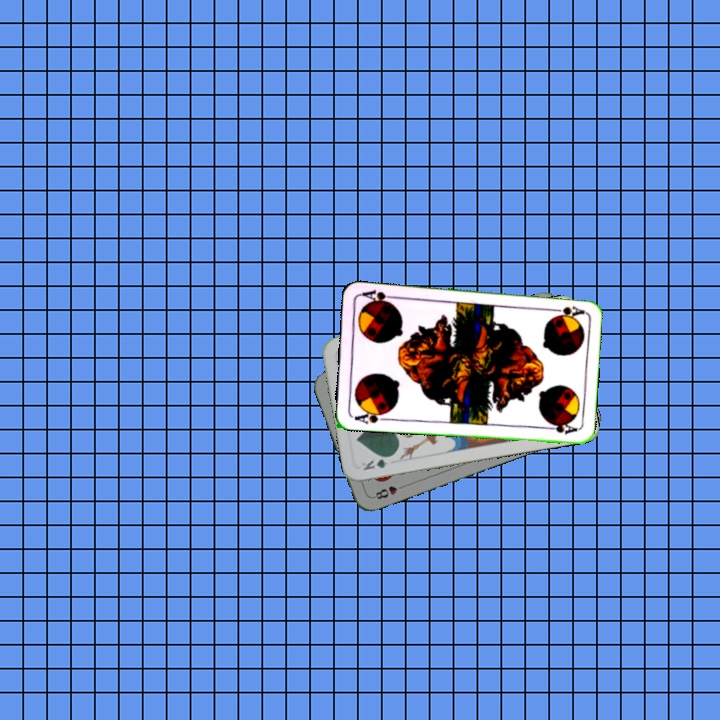GK: (358, 452, 396, 473)
H8: (369, 480, 408, 502)
SA: (350, 406, 391, 426), (546, 302, 586, 319)
